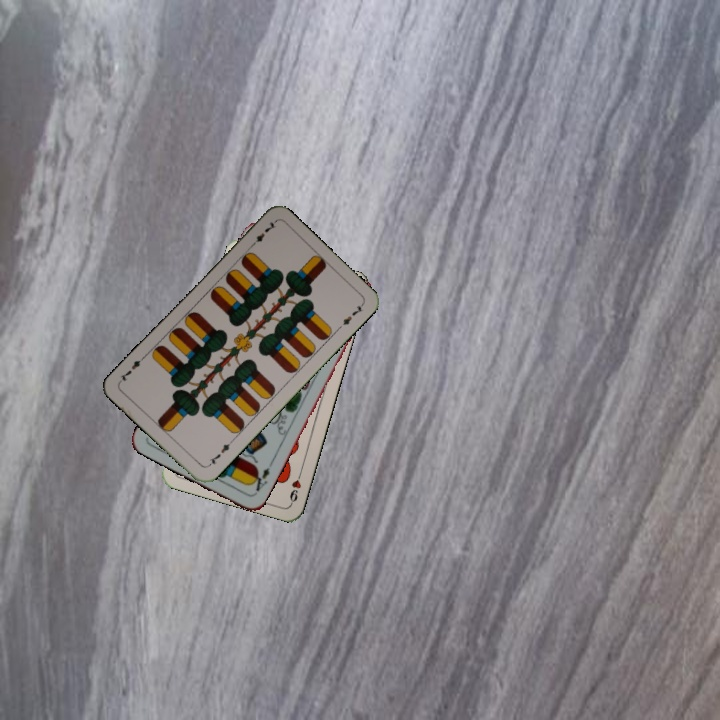E7: (203, 437, 235, 469), (246, 218, 278, 250)
EA: (247, 463, 272, 494)
H9: (286, 466, 304, 506)
